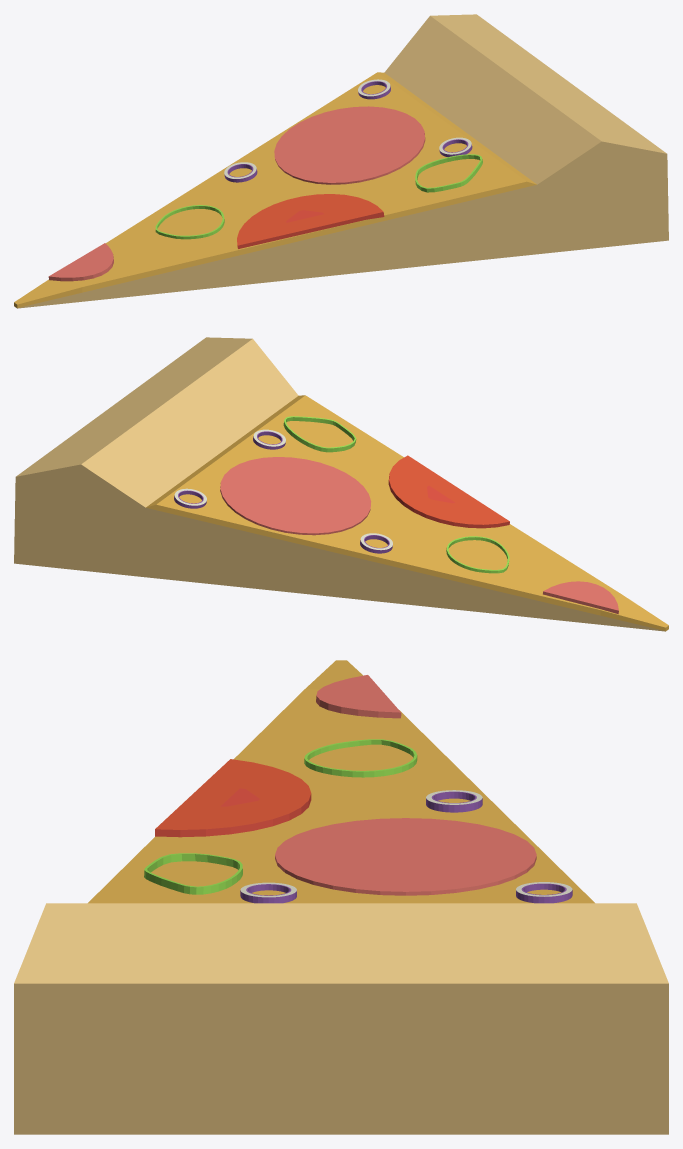
The model's file is LOW POLY PIZZA.fbx.
3 renders of one model, top to bottom at view 1: azimuth 30°, elevation 25°; view 2: azimuth 150°, elevation 25°; view 3: azimuth 270°, elevation 25°, orthographic. The views are drawn at different scales.
Parts seen in each view (by area): view 1: Cube, Cylinder, Cylinder.002, Cylinder.007, Cylinder.006, Cylinder.003, Cylinder.001; view 2: Cube, Cylinder, Cylinder.002, Cylinder.007, Cylinder.006, Cylinder.003; view 3: Cube, Cylinder, Cylinder.002, Cylinder.007, Cylinder.006, Cylinder.003, Cylinder.001, Cylinder.004, Cylinder.005.
Boxes of the visible parts, x1,y1,x2,y2 form: Cube: (14, 14, 668, 308); Cylinder: (274, 106, 425, 184); Cylinder.002: (237, 194, 384, 248); Cylinder.007: (48, 243, 113, 281); Cylinder.006: (415, 154, 482, 192); Cylinder.003: (155, 205, 224, 239); Cylinder.001: (224, 162, 257, 182); Cube: (14, 337, 668, 631); Cylinder: (220, 457, 371, 535); Cylinder.002: (388, 455, 509, 528); Cylinder.007: (543, 581, 618, 614); Cylinder.006: (283, 416, 356, 452); Cylinder.003: (446, 536, 509, 573); Cube: (14, 660, 668, 1134); Cylinder: (275, 818, 536, 895); Cylinder.002: (155, 759, 311, 837); Cylinder.007: (316, 675, 401, 718); Cylinder.006: (144, 853, 242, 894); Cylinder.003: (304, 739, 417, 777); Cylinder.001: (426, 790, 482, 812); Cylinder.004: (240, 882, 296, 903); Cylinder.005: (516, 882, 572, 903).
Size of the model in its own units: 200 by 36.56 by 118.
